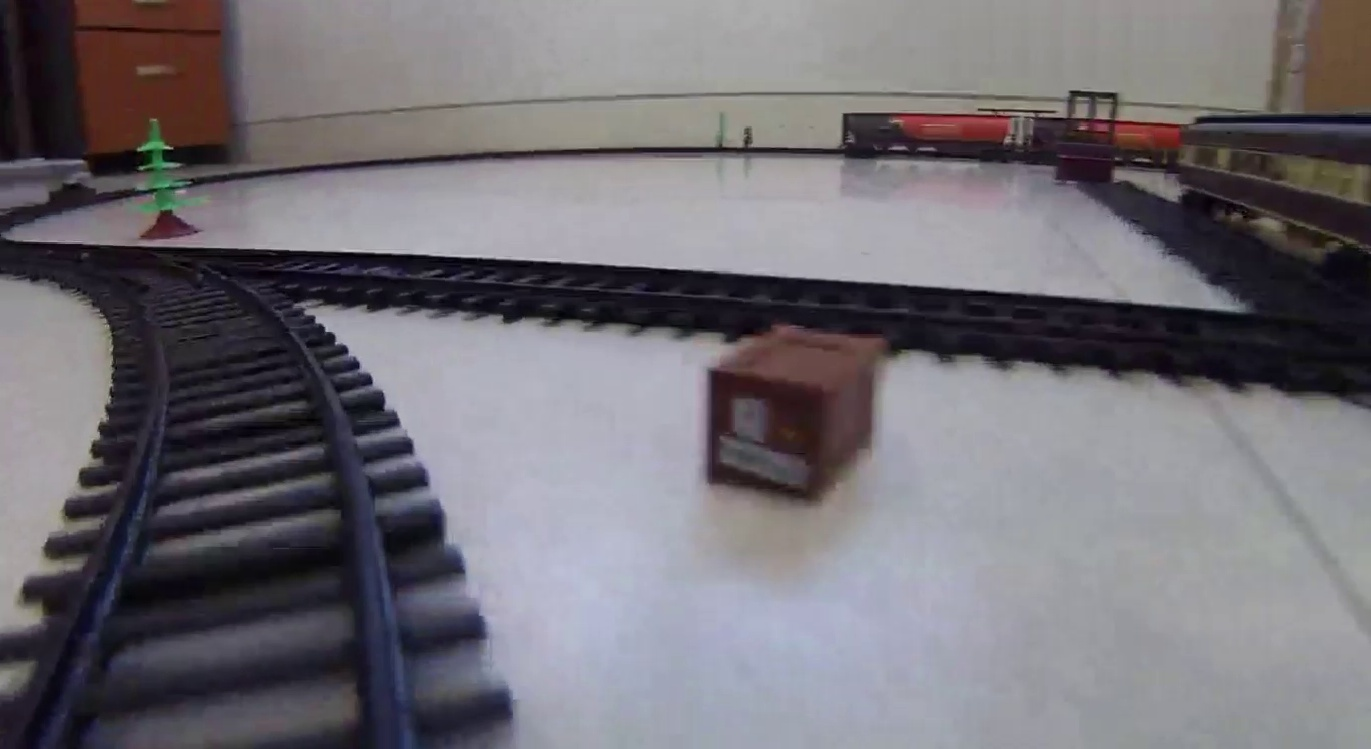box: (705, 323, 882, 504)
